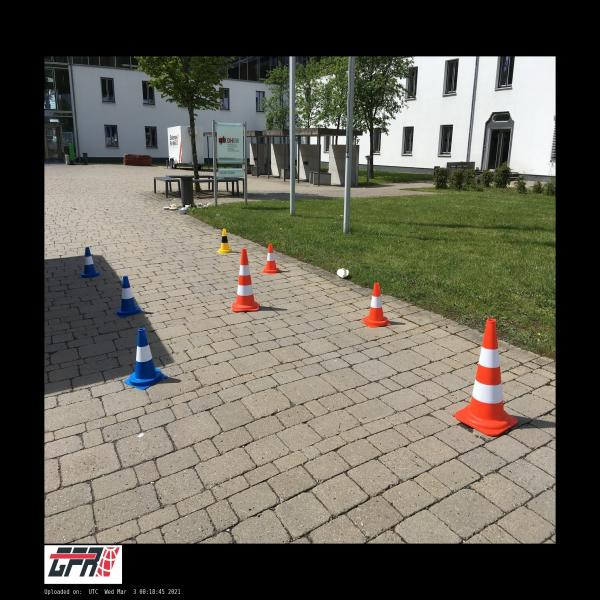blue_cone: (123, 328, 168, 390), (114, 275, 143, 318), (78, 247, 102, 278)
large_orange_cone: (455, 319, 518, 436), (232, 249, 260, 312)
orange_cone: (361, 283, 391, 327), (262, 244, 281, 274)
yellow_cone: (217, 228, 232, 254)
